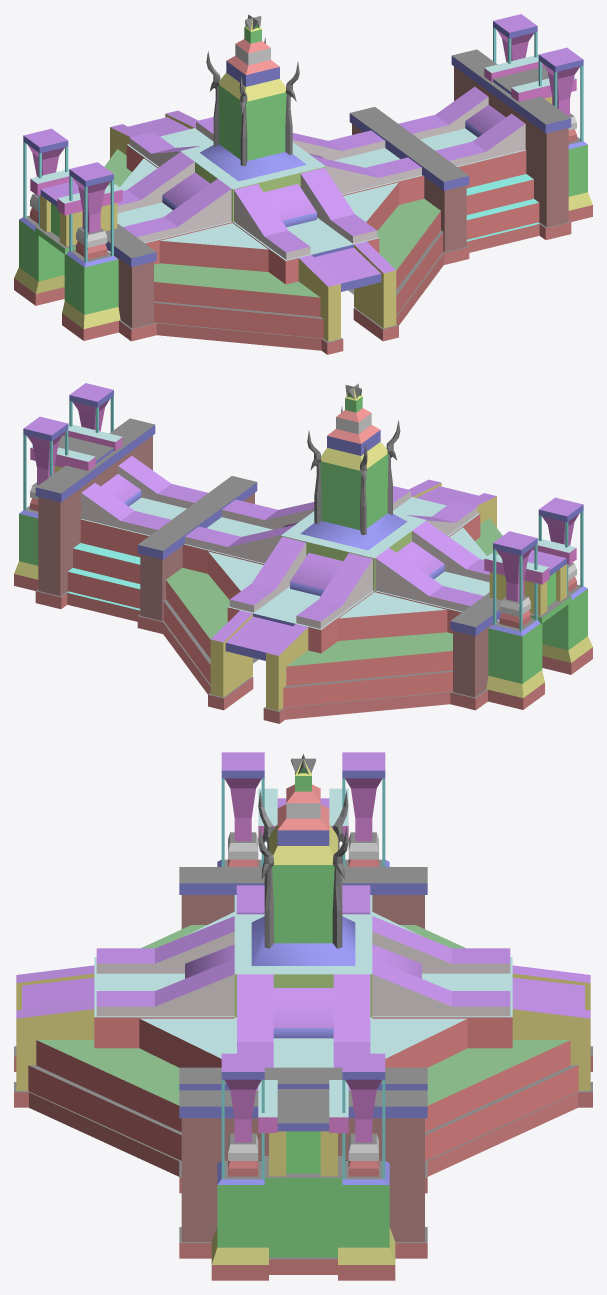
Rendered from sylentemple_skin.gltf.
3 renders of one model, top to bottom at view 1: azimuth 30°, elevation 25°; view 2: azimuth 150°, elevation 25°; view 3: azimuth 270°, elevation 25°, orthographic. The views are drawn at different scales.
Visible parts, largest first — view 1: sylentemple_skin; view 2: sylentemple_skin; view 3: sylentemple_skin.
Part boxes in pixels (<box>): sylentemple_skin: <box>14,14,592,354</box>; sylentemple_skin: <box>14,383,592,723</box>; sylentemple_skin: <box>14,752,592,1280</box>.
Bounding box in the file's own units: 57.76 × 26.72 × 43.
